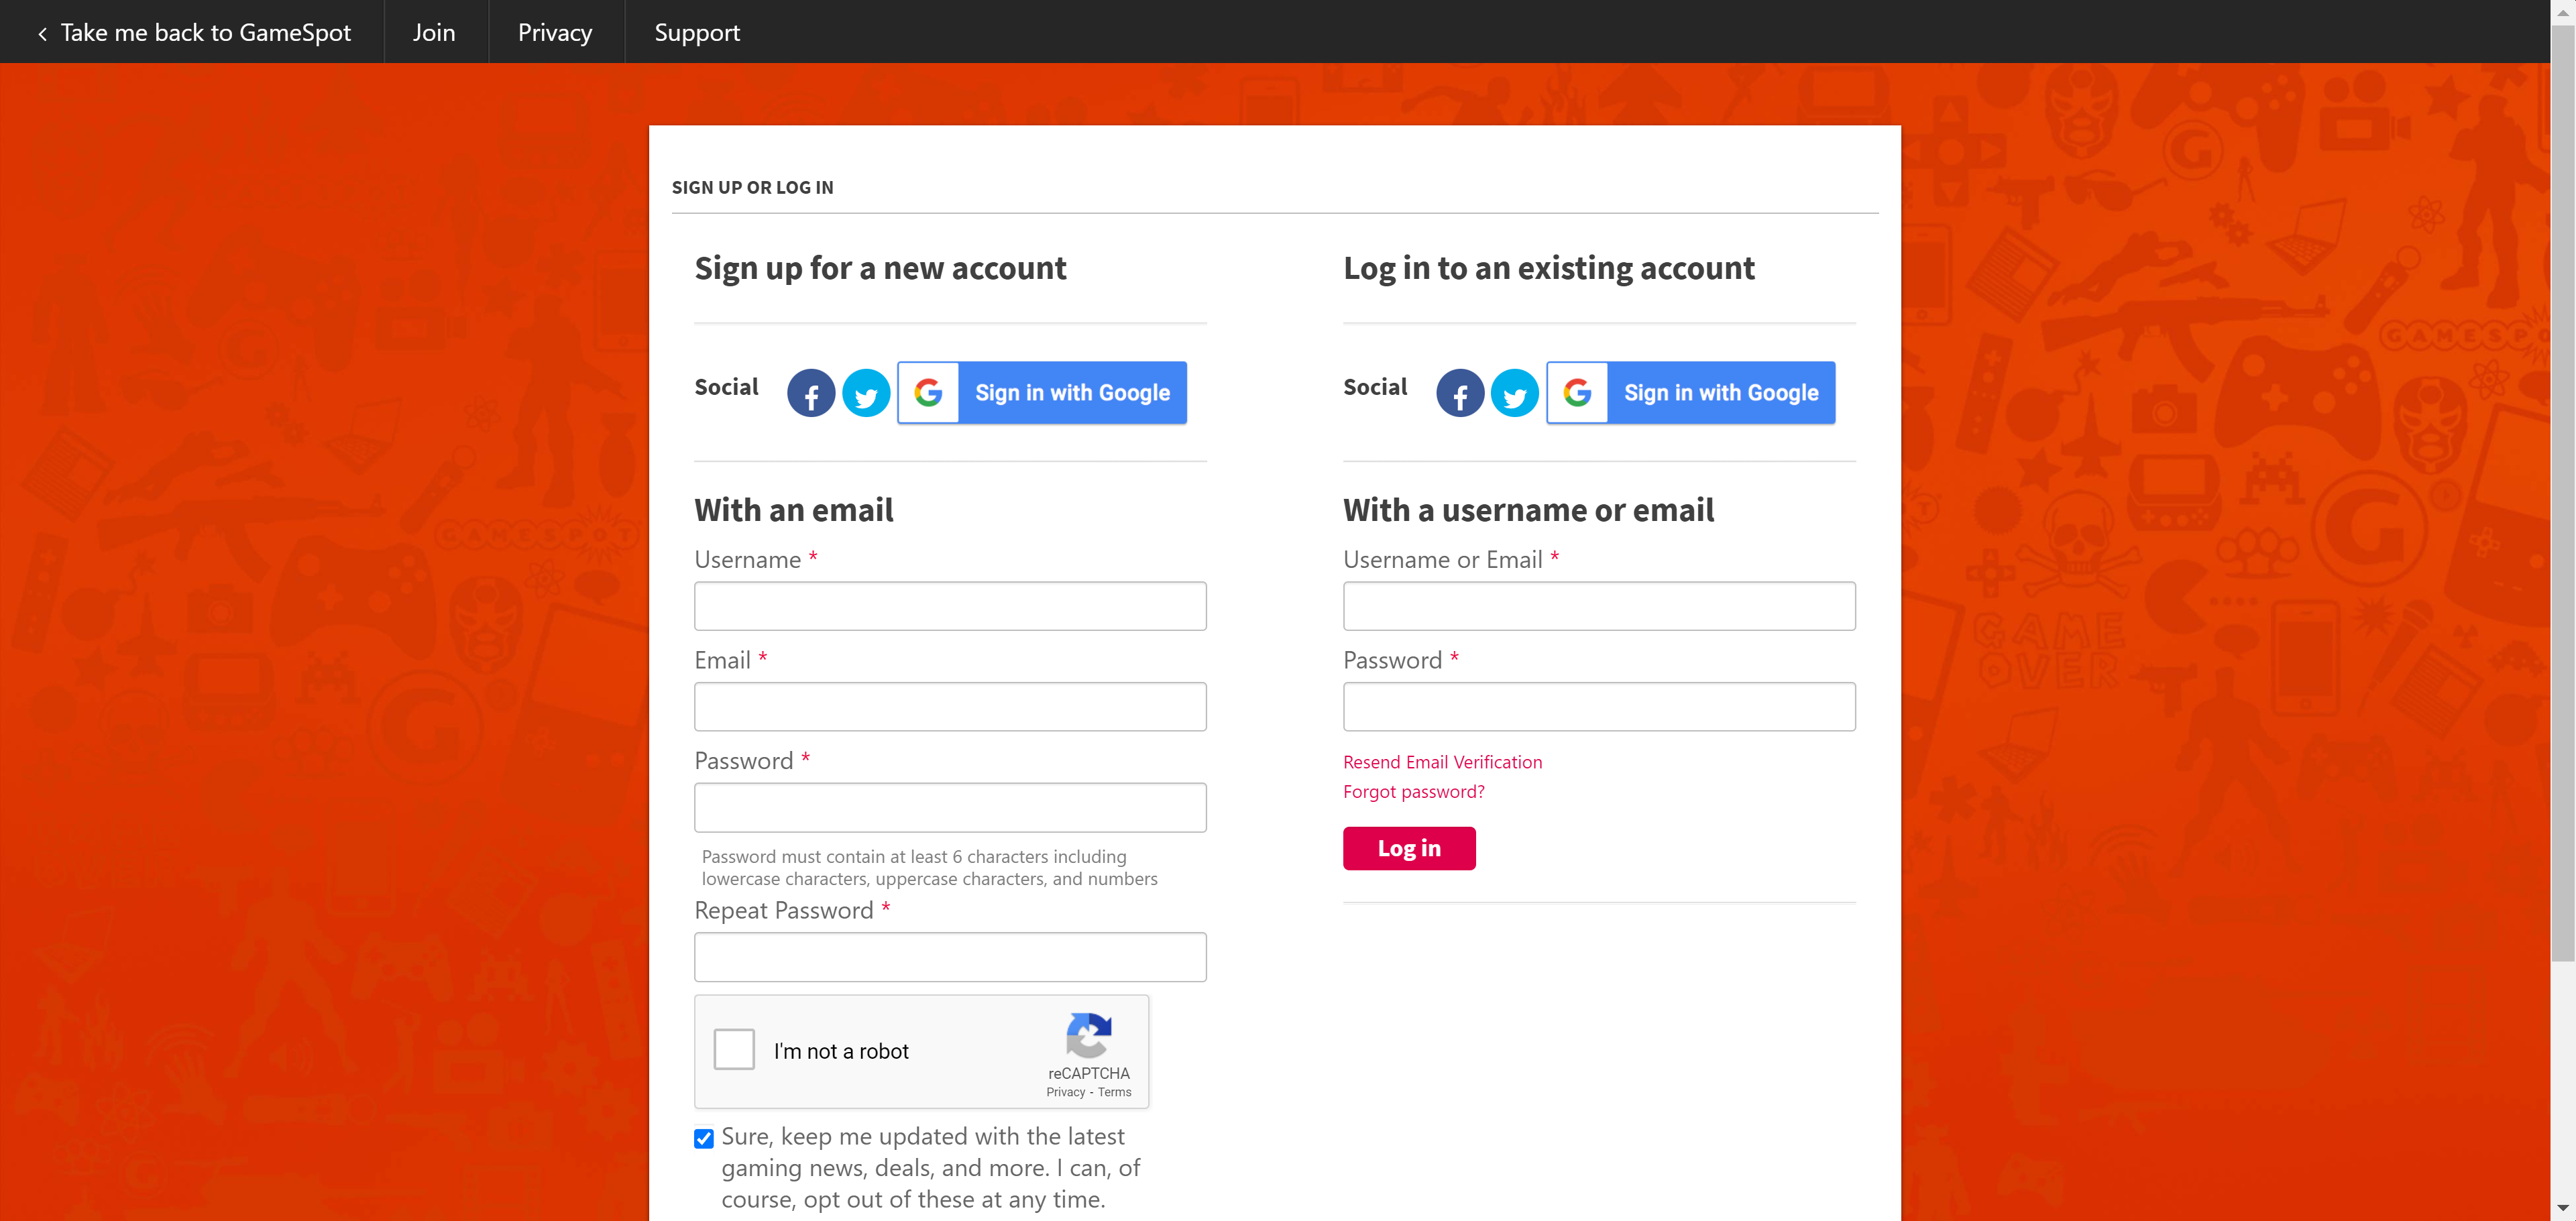login_button: (1342, 827, 1477, 871)
login_form: (1337, 544, 1863, 876)
